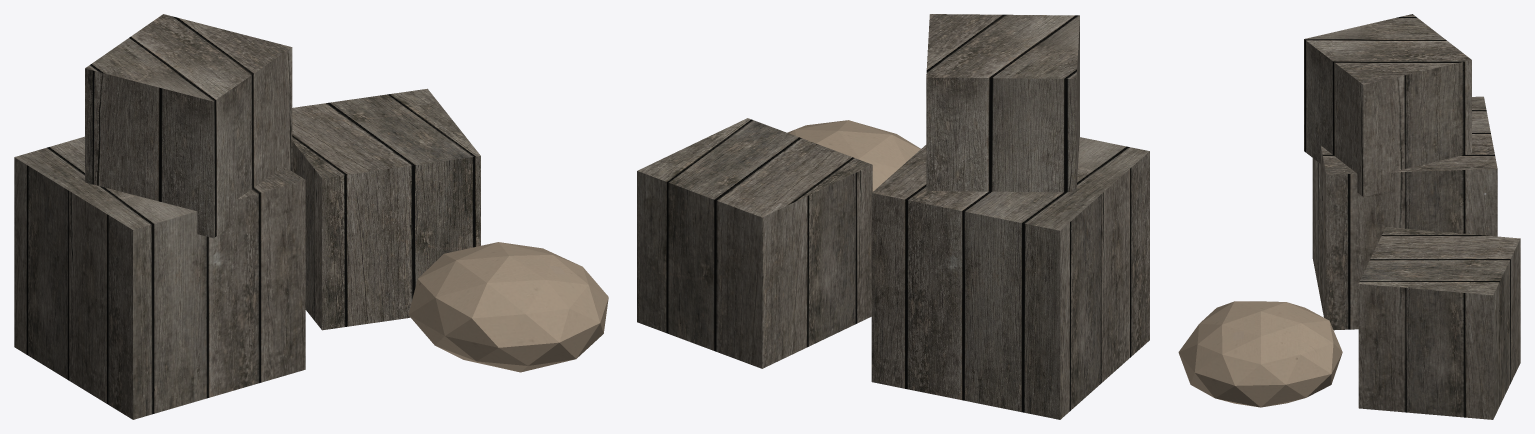
Rendered from Prop_CrateSet.fbx.
The picture shows the model from 3 angles, left to right: view 1: azimuth 30°, elevation 25°; view 2: azimuth 150°, elevation 25°; view 3: azimuth 270°, elevation 25°; orthographic projection. The views are drawn at different scales.
Parts seen in each view (by area): view 1: CrateSet_Mesh; view 2: CrateSet_Mesh; view 3: CrateSet_Mesh.
Part boxes in pixels (x1,y1,x2,y2): CrateSet_Mesh: (14,14,608,419); CrateSet_Mesh: (637,14,1149,419); CrateSet_Mesh: (1178,14,1520,419).
Size of the model in its own units: 1.22 by 0.8 by 0.9956.
Materials: 2 (2 with a texture image).
